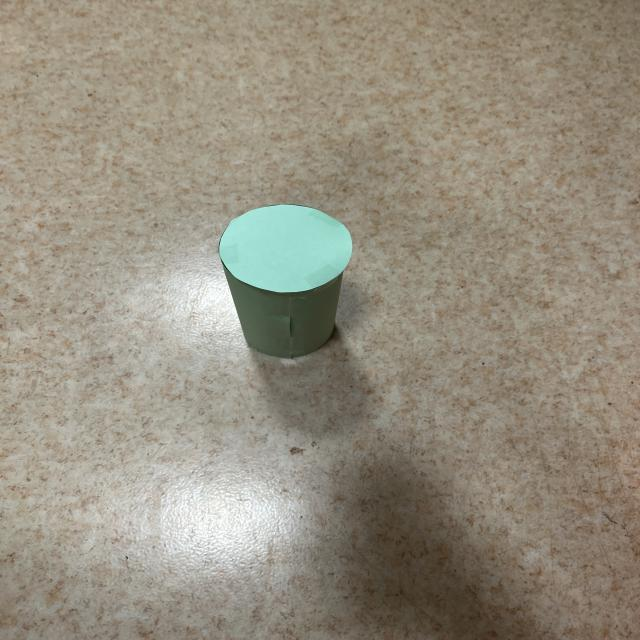meta: (219, 205, 352, 358)
